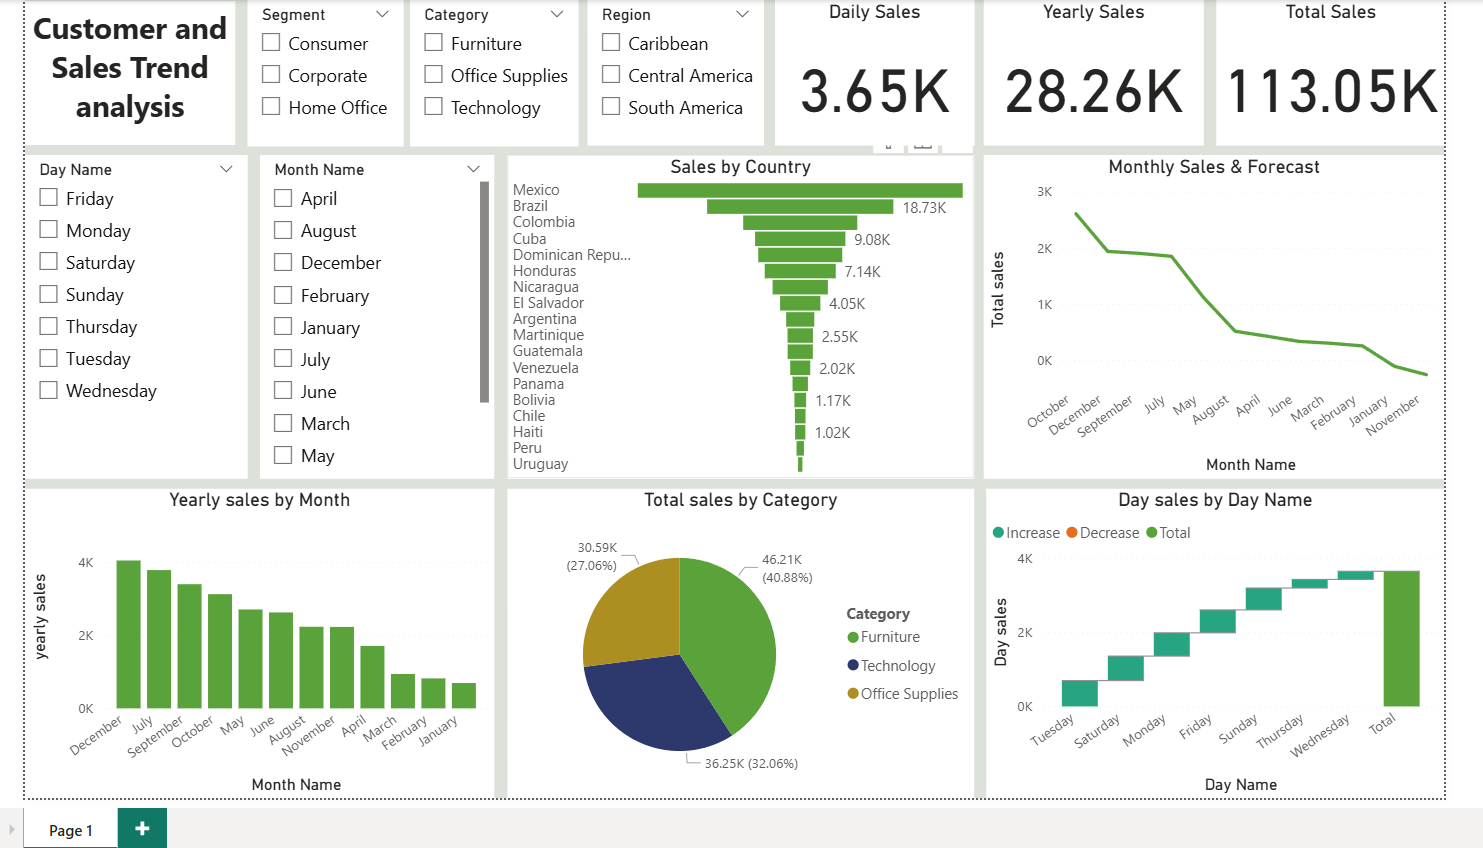

This screenshot's page, from the dashboard's own definition file:
{"tool":"powerbi","page":{"name":"Page 1","canvas":[1280,720],"ordinal":0},"visuals":[{"type":"waterfallChart","fields":{"Category":["Orders1.Day Name"],"Y":["Orders1.Day sales"]},"box":[867,440.2,413.3,280],"z":0},{"type":"slicer","fields":{"Values":["Orders1.Day Name"]},"box":[0,139.4,200.5,292.3],"z":1000},{"type":"slicer","fields":{"Values":["Orders1.Month Name"]},"box":[211.6,139.4,211.6,292.3],"z":2000},{"type":"clusteredColumnChart","title":"Yearly sales by Month","fields":{"Category":["Orders1.Month Name"],"Y":["Orders1.sales_per_year"]},"box":[0,440.2,423.1,280],"z":3000},{"type":"pieChart","title":"Total sales by Category","fields":{"Y":["Orders1.total sales"],"Category":["Orders1.Category"]},"box":[435.3,440.2,420.7,280],"z":4000},{"type":"lineChart","title":"Monthly Sales & Forecast","fields":{"Category":["Orders1.Month Name"],"Y":["Sum(Orders1.Profit)"]},"box":[864.5,139.4,415.8,292.3],"z":5000},{"type":"funnel","title":" Sales by Country","fields":{"Category":["Orders1.Country"],"Y":["Sum(Orders1.Sales)"]},"box":[435.3,139.4,420.7,292.3],"z":6000},{"type":"card","title":"Total Sales","fields":{"Values":["Orders1.total sales"]},"box":[1073.6,0,206.7,130.8],"z":7000},{"type":"card","title":"Yearly Sales","fields":{"Values":["Orders1.year sales"]},"box":[864.5,0,198.1,130.8],"z":8000},{"type":"card","title":"Daily Sales","fields":{"Values":["Orders1.Day sales"]},"box":[676.2,0,179.8,130.8],"z":9000},{"type":"slicer","fields":{"Values":["Orders1.Segment"]},"box":[200.5,0,140.6,132.1],"z":10000},{"type":"slicer","fields":{"Values":["Orders1.Category"]},"box":[347.3,0,151.6,132.1],"z":11000},{"type":"textbox","box":[0,1.2,189.5,129.6],"z":12000},{"type":"slicer","fields":{"Values":["Orders1.Region"]},"box":[507.5,0,159,130.8],"z":13000}]}

Visuals, with their boxes on the page's 1280x720 design canvas (x1, y1, x2, y2). These are canvas units, not pixel positions in the 1483x848 screenshot, which may show the page scaled, cropped or inside an application window:
waterfallChart - Orders1.Day Name x Orders1.Day sales: (x1=867, y1=440, x2=1280, y2=720)
slicer - Orders1.Day Name: (x1=0, y1=139, x2=200, y2=432)
slicer - Orders1.Month Name: (x1=212, y1=139, x2=423, y2=432)
"Yearly sales by Month" clusteredColumnChart: (x1=0, y1=440, x2=423, y2=720)
"Total sales by Category" pieChart: (x1=435, y1=440, x2=856, y2=720)
"Monthly Sales & Forecast" lineChart: (x1=864, y1=139, x2=1280, y2=432)
" Sales by Country" funnel: (x1=435, y1=139, x2=856, y2=432)
"Total Sales" card: (x1=1074, y1=0, x2=1280, y2=131)
"Yearly Sales" card: (x1=864, y1=0, x2=1063, y2=131)
"Daily Sales" card: (x1=676, y1=0, x2=856, y2=131)
slicer - Orders1.Segment: (x1=200, y1=0, x2=341, y2=132)
slicer - Orders1.Category: (x1=347, y1=0, x2=499, y2=132)
textbox: (x1=0, y1=1, x2=190, y2=131)
slicer - Orders1.Region: (x1=508, y1=0, x2=666, y2=131)
